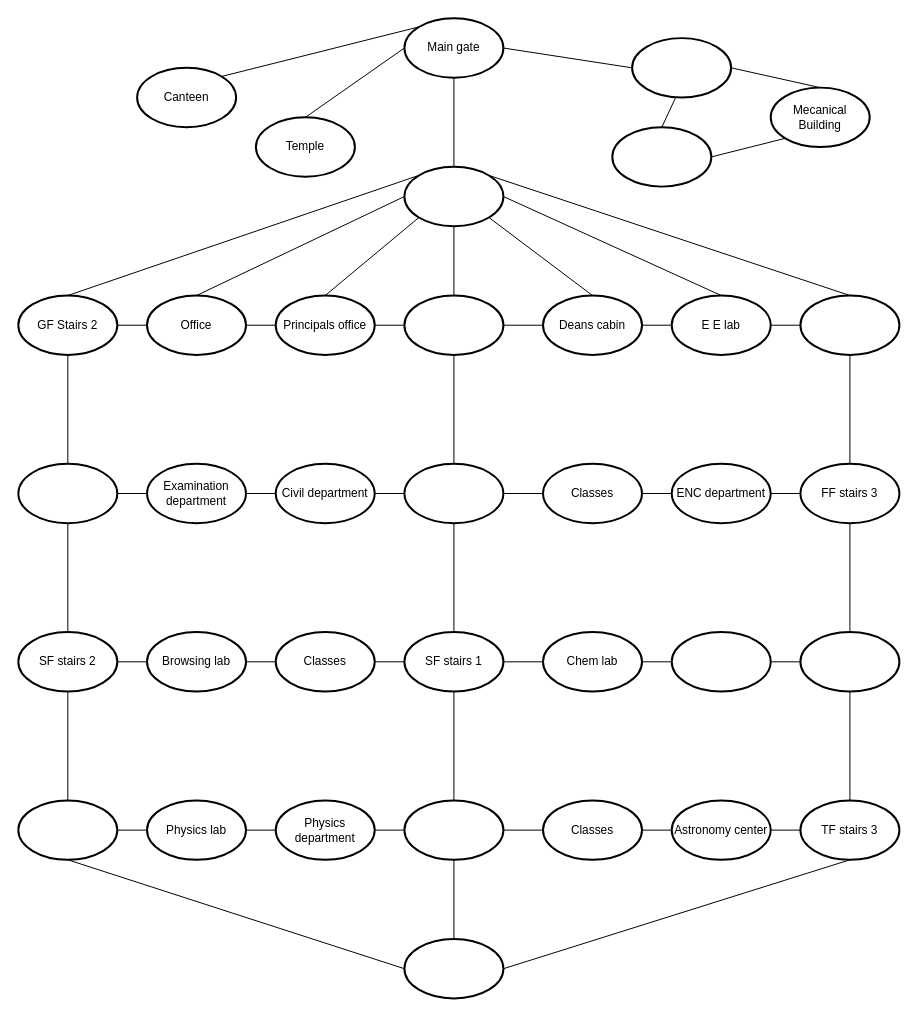
Some shapes in this 917 by 1016 pixel diagram are drawn without their labels. Here are the shapes that lost their labels. From the top down, the centre of each, then its label:
(x=681, y=67): IT Block
(x=661, y=156): Library
(x=453, y=196): Main Building
(x=453, y=324): GF Stairs 1
(x=849, y=324): GF Stairs 3
(x=67, y=493): FF stairs 2
(x=453, y=493): FF stairs 1
(x=720, y=661): Math department
(x=849, y=661): SF stairs 3
(x=67, y=829): TF stairs 2
(x=453, y=829): TF stairs 1
(x=453, y=968): Terrace
